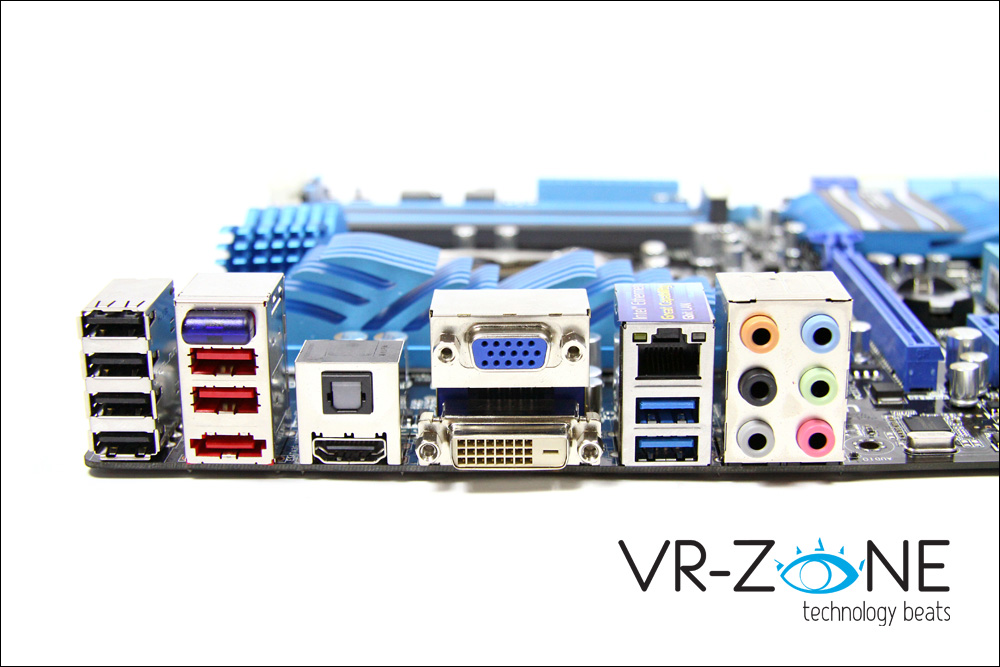Audio: (736, 309, 783, 355), (797, 311, 844, 353), (736, 365, 779, 406), (795, 419, 835, 457)
DVI: (453, 433, 571, 472)
Ethernet: (625, 327, 712, 390)
HDMI: (307, 433, 395, 466)
USB: (629, 393, 706, 423), (631, 433, 706, 463)
VGA: (463, 318, 552, 373)
